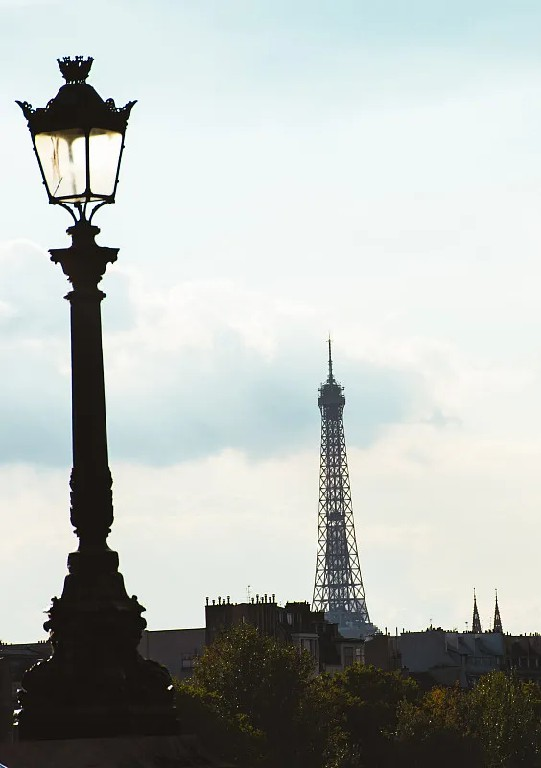Eiffel: (310, 334, 373, 626)
